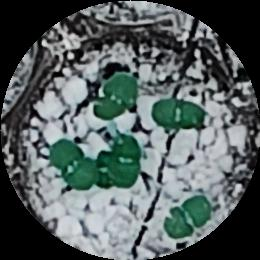Basil: (50, 140, 95, 194), (94, 74, 137, 119), (167, 196, 212, 239), (154, 98, 206, 130), (113, 135, 140, 191)
